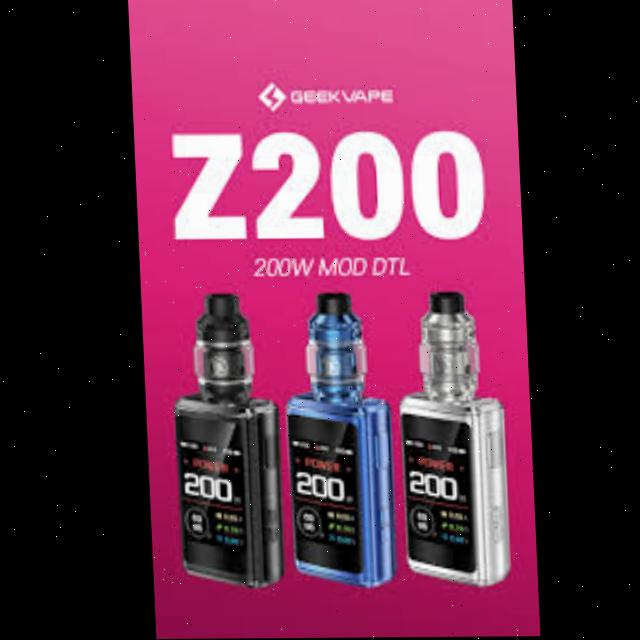vape: (389, 289, 510, 592), (273, 290, 392, 592), (167, 292, 284, 590)
